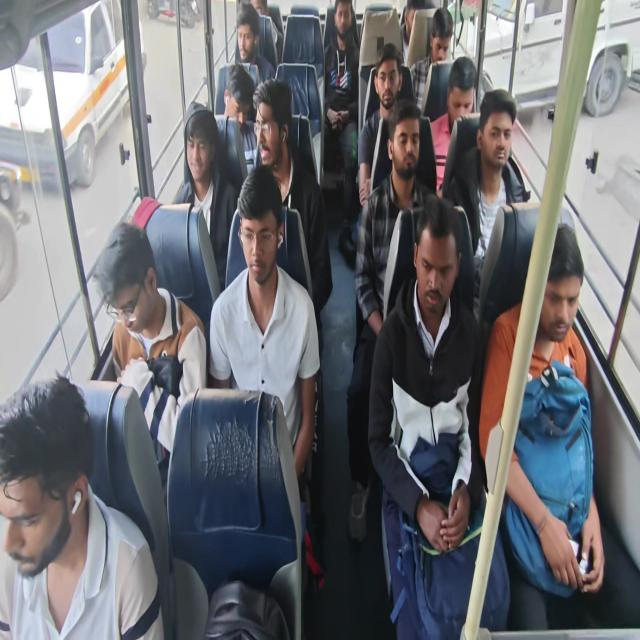person: (367, 194, 511, 638), (479, 221, 605, 626), (0, 373, 164, 639), (346, 98, 436, 542), (208, 164, 321, 485), (92, 220, 207, 492), (251, 77, 333, 353), (446, 88, 530, 276), (172, 101, 237, 291), (323, 1, 360, 261), (357, 42, 404, 207), (429, 55, 477, 196), (215, 62, 259, 176), (409, 7, 454, 113), (234, 2, 275, 86), (400, 0, 436, 66), (250, 0, 283, 68), (222, 63, 255, 123)
